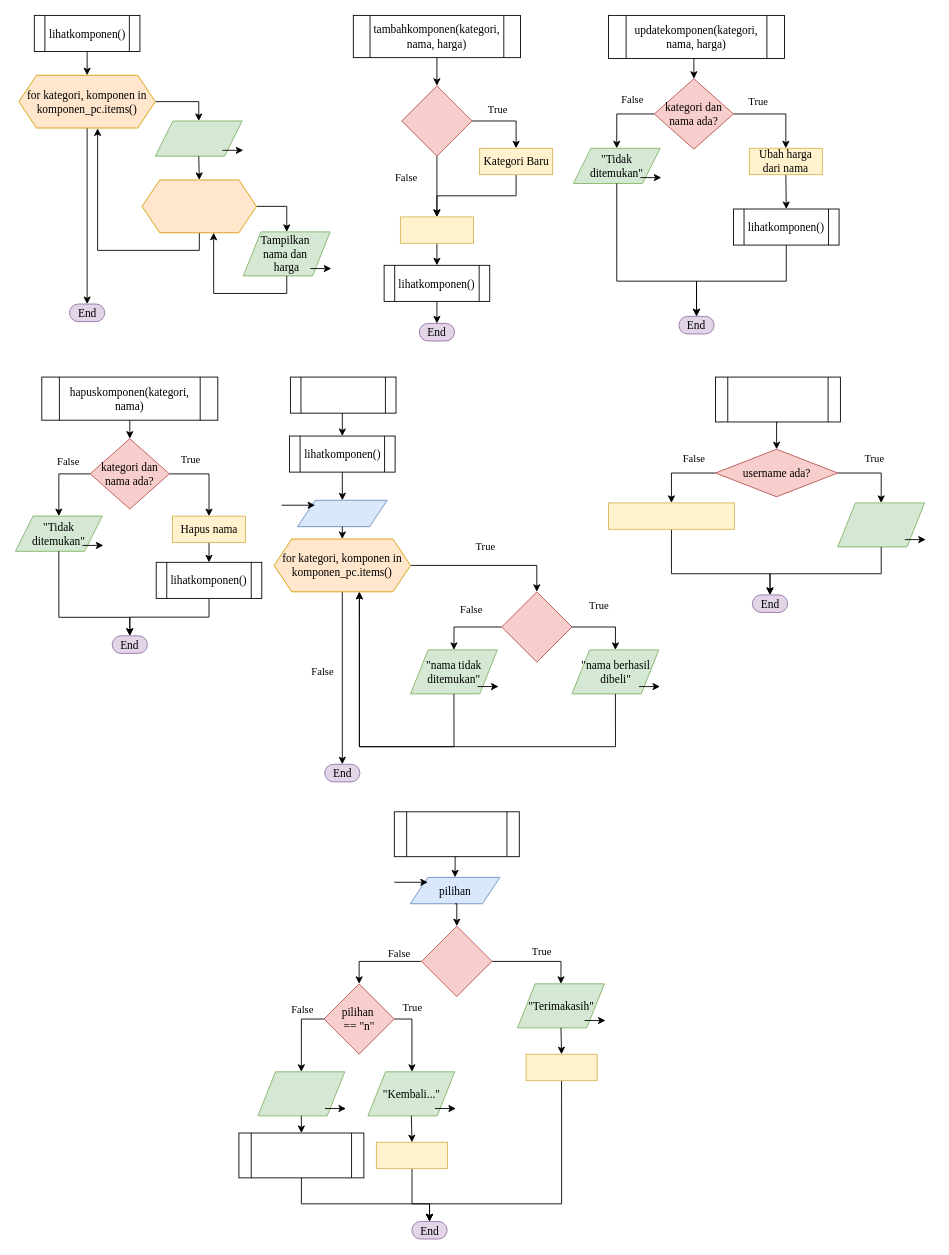
Some shapes in this 949 by 1255 pixel diagram are drawn without their labels. The box of each missing label's shape, as (x1, y1, x2, y2) in pixels:
"INVALID": (257, 1071, 345, 1116)
"username sudah terdaftar": (837, 502, 925, 547)
belikomponen(): (290, 376, 396, 413)
for nama, harga in komponen.items(): (141, 179, 257, 233)
kategori belum ada?: (401, 85, 472, 156)
konfirmasi_keluar(): (393, 811, 519, 857)
nama: (297, 499, 387, 527)
nama ada?: (501, 591, 572, 662)
pilihan == "y": (421, 925, 492, 997)
register(username, password): (715, 376, 840, 422)
return false: (375, 1141, 448, 1169)
return konfirmasi_keluar(): (238, 1132, 364, 1178)
return True: (525, 1053, 597, 1081)
Tambah komponen: (400, 216, 473, 243)
Tambahkan username dengan password: (608, 502, 734, 529)
Tampilkan kategori: (154, 120, 242, 156)
